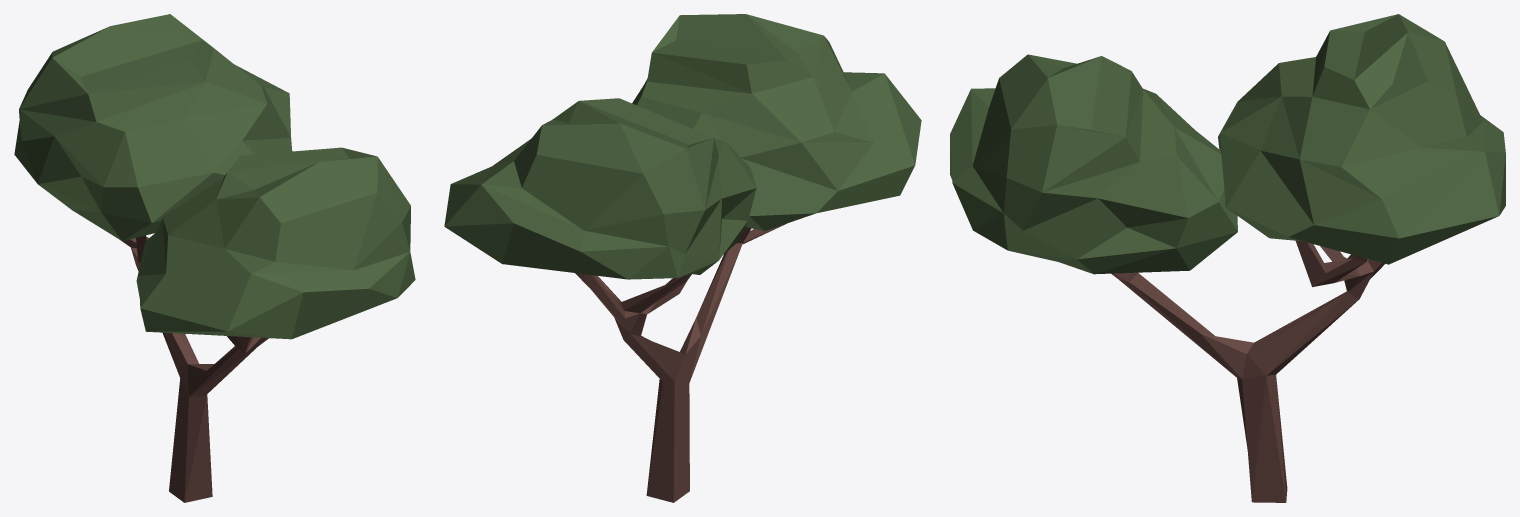
File: tree-common-1.gltf
3 views of the same model, side by side, from view 1: azimuth 30°, elevation 25°; view 2: azimuth 150°, elevation 25°; view 3: azimuth 270°, elevation 25° (orthographic). The views are drawn at different scales.
Parts seen in each view (by area): view 1: CommonTree_1_Cube.049; view 2: CommonTree_1_Cube.049; view 3: CommonTree_1_Cube.049.
Part boxes in pixels (x1,y1,x2,y2): CommonTree_1_Cube.049: (14, 14, 415, 502); CommonTree_1_Cube.049: (444, 14, 921, 502); CommonTree_1_Cube.049: (950, 14, 1505, 502).
Bounding box in the file's own units: 0.0189 × 0.0248 × 0.0274.
